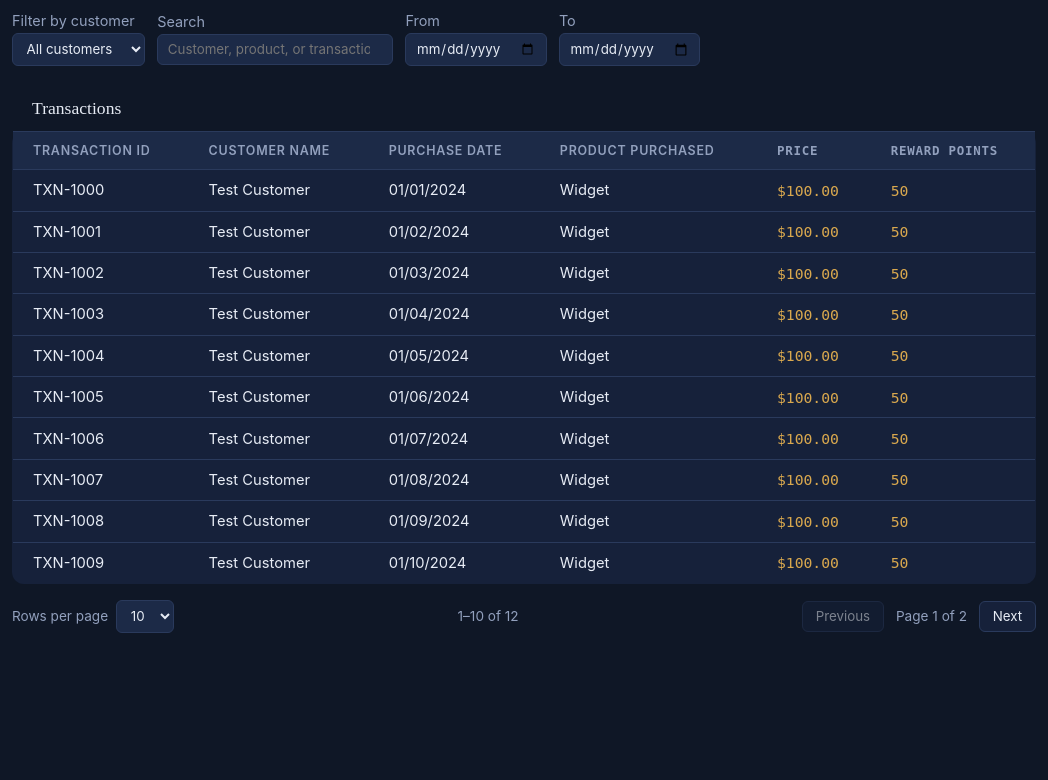
Test: TransactionsTable › paginates results and only shows rowsPerPage rows at a time
Expected: the text "1–10 of 12" is shown, [458,608,519,624]
What coordinates should you click on to do the following:
click the button "Next"
I would click on:
 (1008, 616)
Its box is [979,601,1036,632].
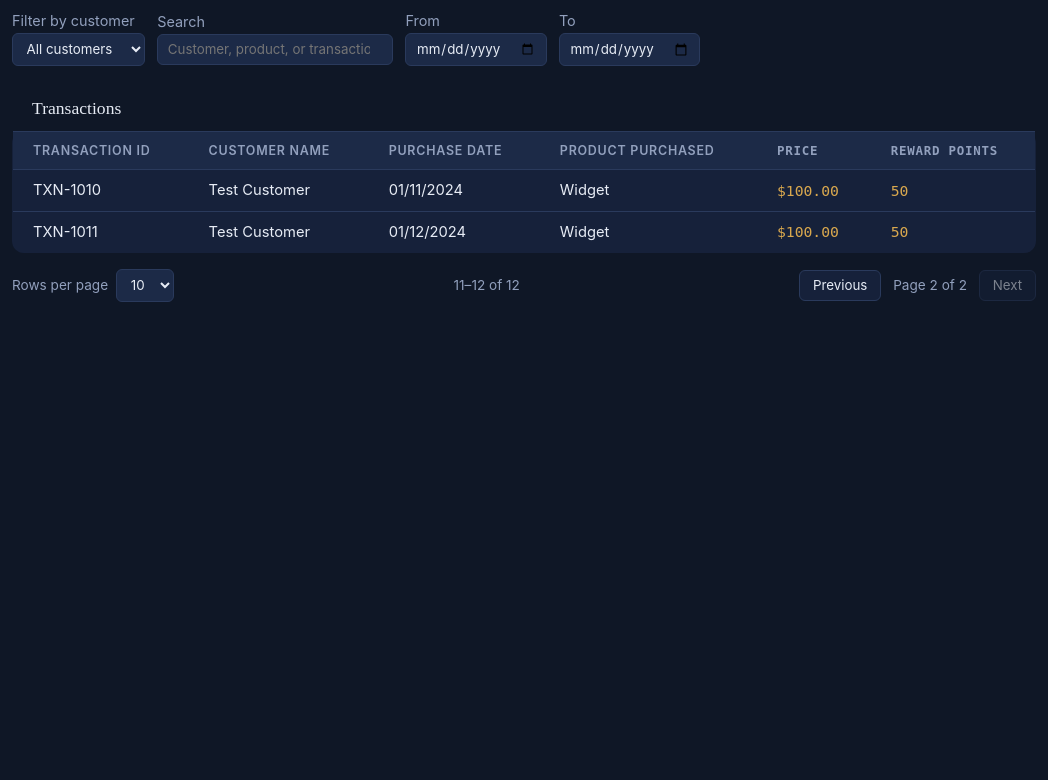
Expected: the text "11–12 of 12" is shown, [454,277,520,293]
